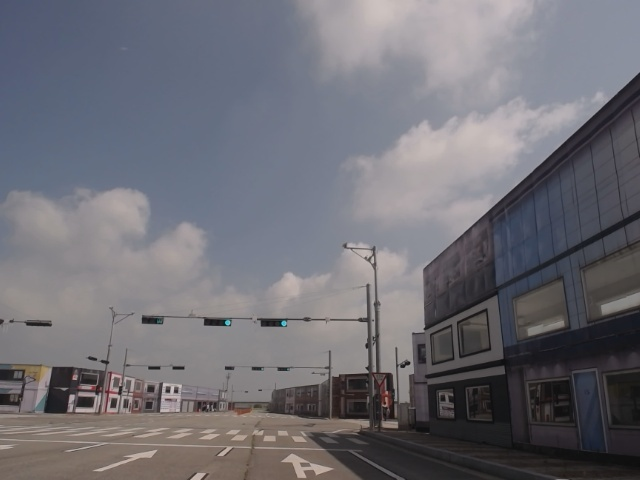straight_green_4: (203, 315, 233, 328), (262, 317, 288, 328)
